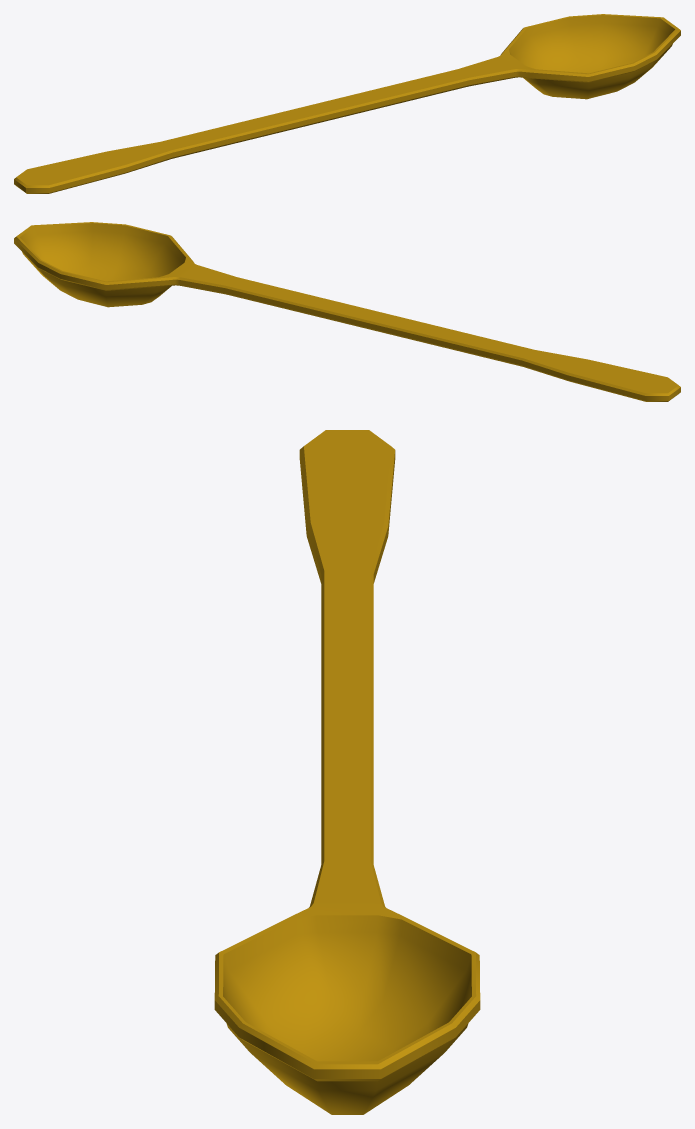
File: 1final spoon.fbx
3 views of the same model, one above another, from view 1: azimuth 30°, elevation 25°; view 2: azimuth 150°, elevation 25°; view 3: azimuth 270°, elevation 25° (orthographic). The views are drawn at different scales.
Visible parts, largest first — view 1: spoon; view 2: spoon; view 3: spoon.
Boxes of the visible parts, <box> form: spoon: <box>14,14,680,193</box>; spoon: <box>14,222,680,401</box>; spoon: <box>214,430,480,1114</box>.
Size of the model in its own units: 15.79 by 1.02 by 2.78.
